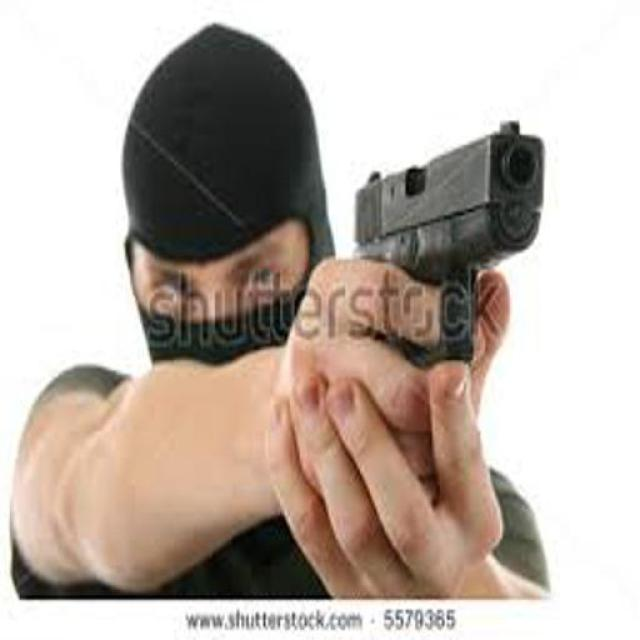pistol: (350, 124, 542, 374)
